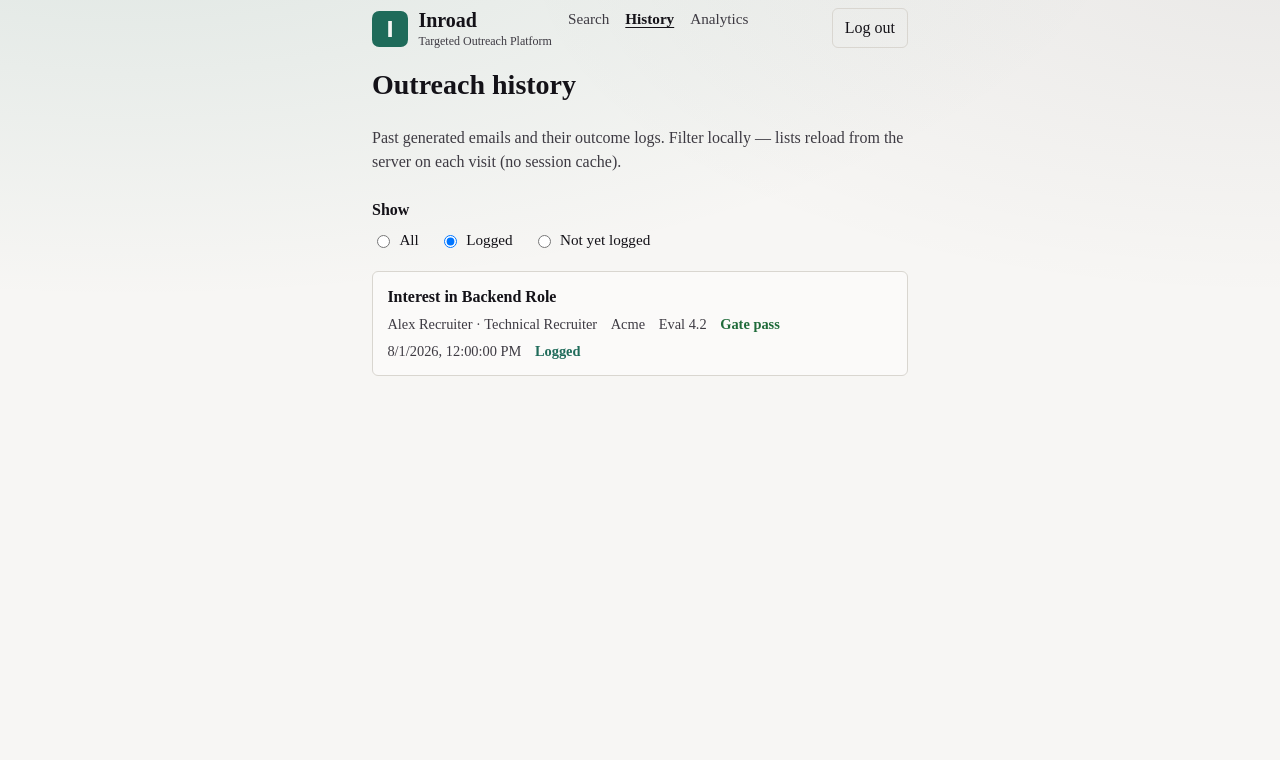
HistoryPage › shows cascade confirm copy when retracting Sent with other outcomes
Click the text "Interest in Backend Role" at (472, 296), box [387, 288, 556, 305]
(page scrolled)
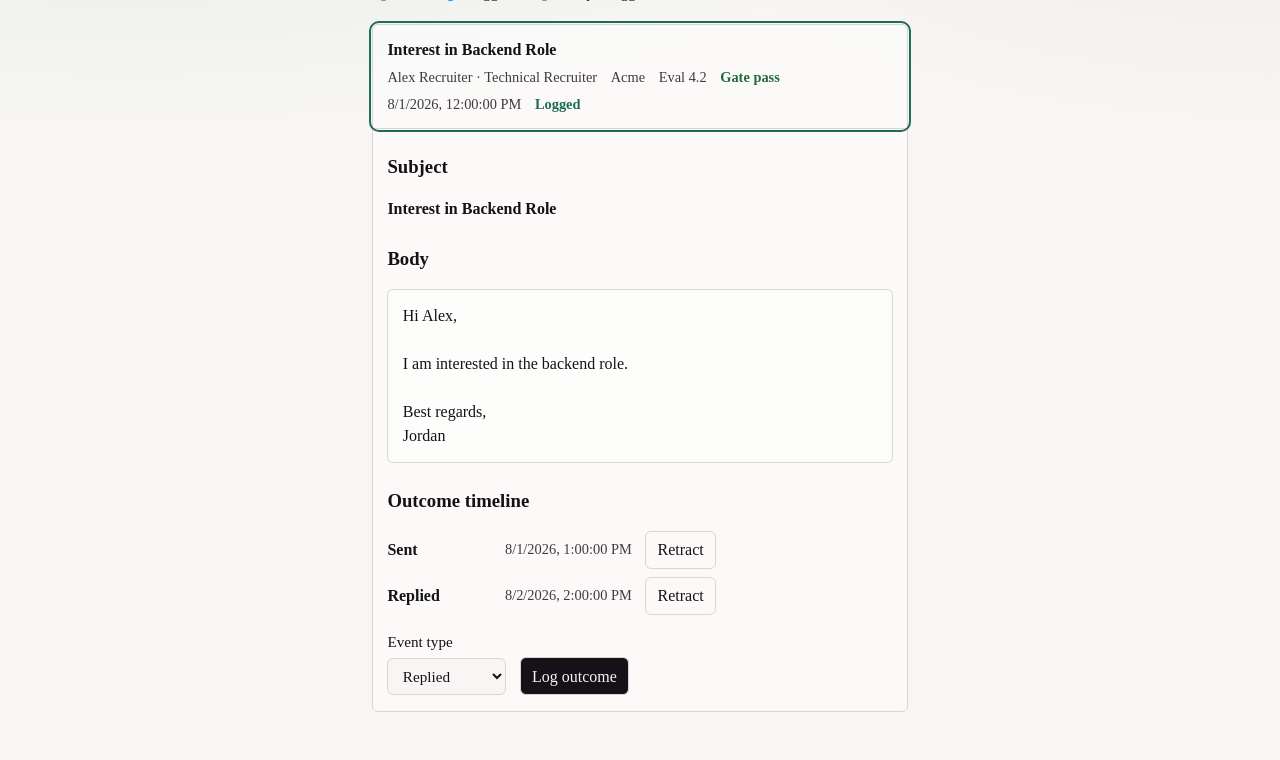
Result: the text "I am interested in the backend role" is shown at [403, 307, 628, 444]
Result: the text "Outcome timeline" is shown at [387, 490, 529, 511]
Result: the list item "Sent" is shown at [387, 541, 418, 558]
Click the button "Retract" in the row of "Sent" at (681, 550), box [645, 531, 716, 569]
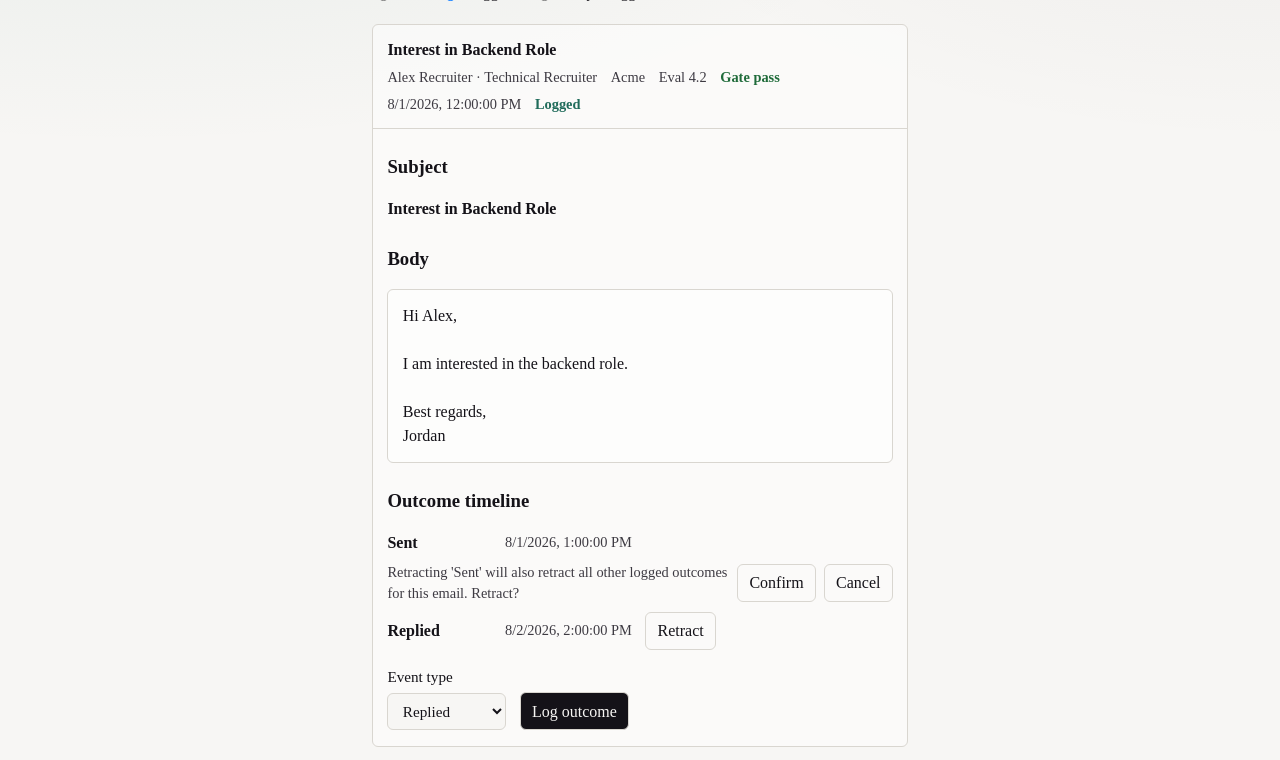
Result: the text "Retracting 'Sent' will also retract all other logged outcomes" is shown at [387, 564, 728, 601]
Click the button "Confirm" at (776, 583), box [737, 564, 816, 602]
(page scrolled)
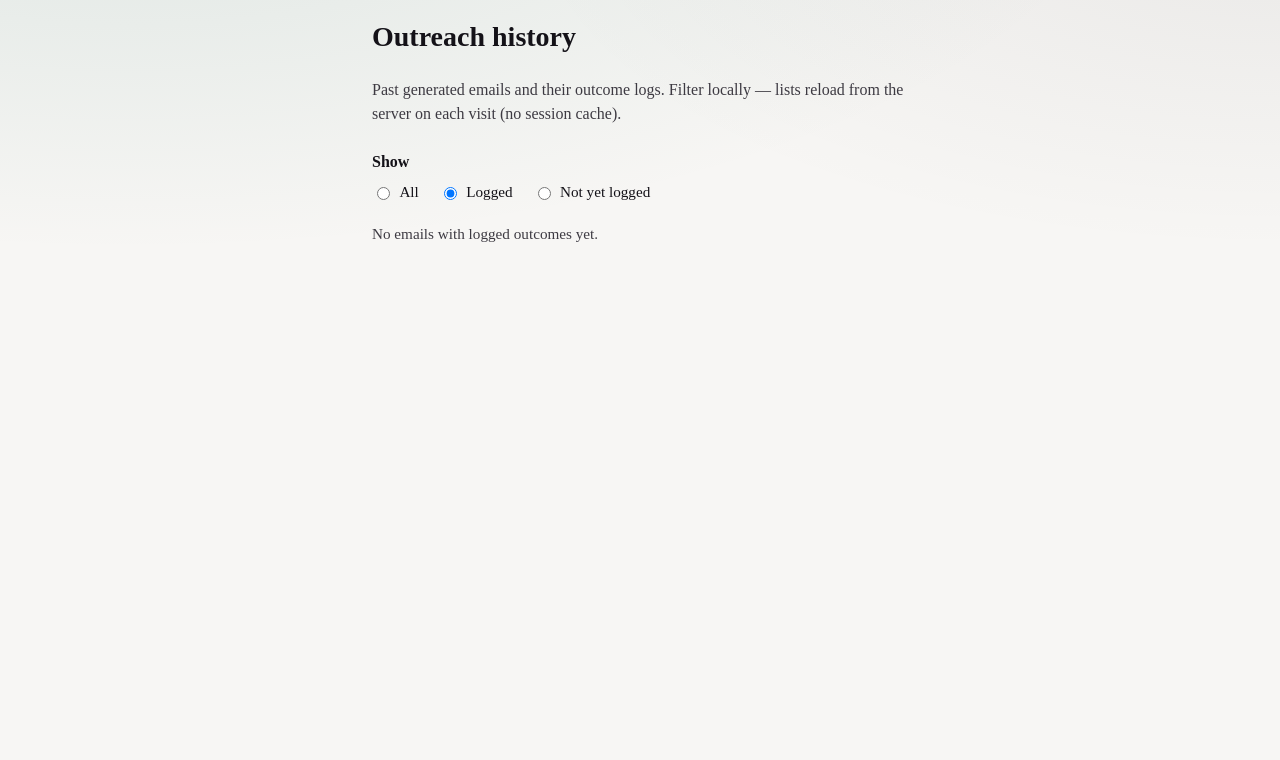
Result: the text "No emails with logged outcomes yet." is shown at [372, 225, 598, 242]
